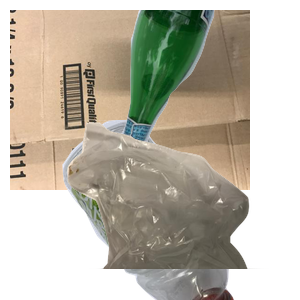cardboard: (10, 10, 250, 190)
glass: (109, 10, 300, 167)
plastic: (25, 120, 252, 300)
trash: (65, 120, 300, 300)
